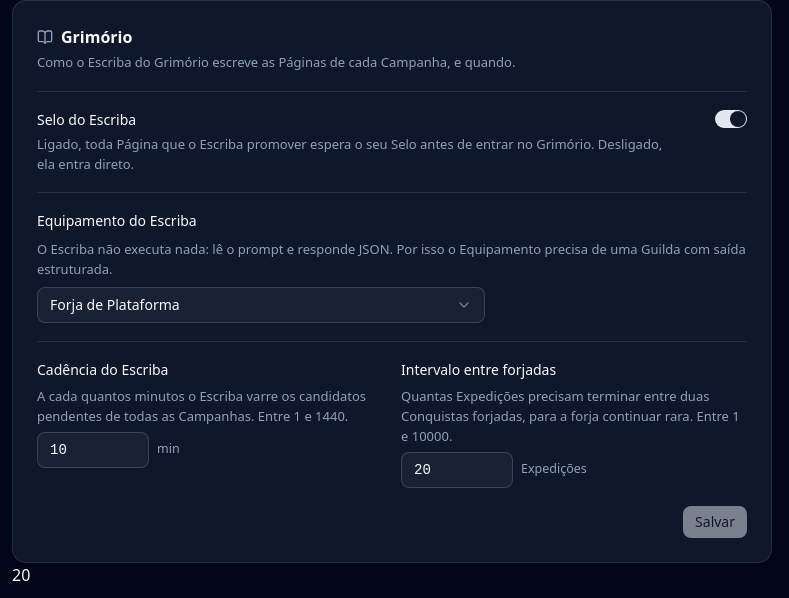
bloco do Grimório em Settings › hidrata os quatro campos e só habilita salvar quando algo muda
Expected: the text "Grimório" is shown, x1=61 y1=25 x2=132 y2=49
Expected: the button "Salvar" is disabled, x1=683 y1=506 x2=747 y2=538
Replace the text in the number field labelled "Cadência do Escriba" with "15" at (93, 450), box x1=37 y1=432 x2=149 y2=468
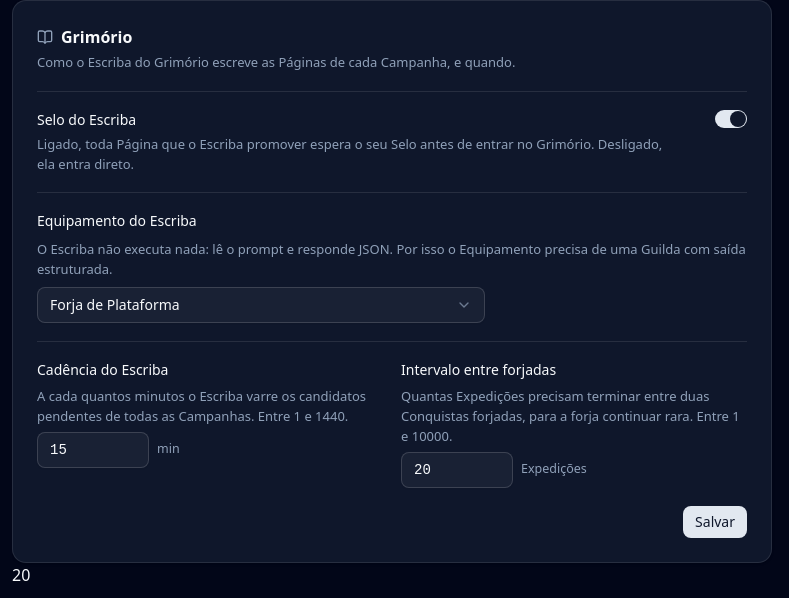
Now the button "Salvar" is enabled, box x1=683 y1=506 x2=747 y2=538
